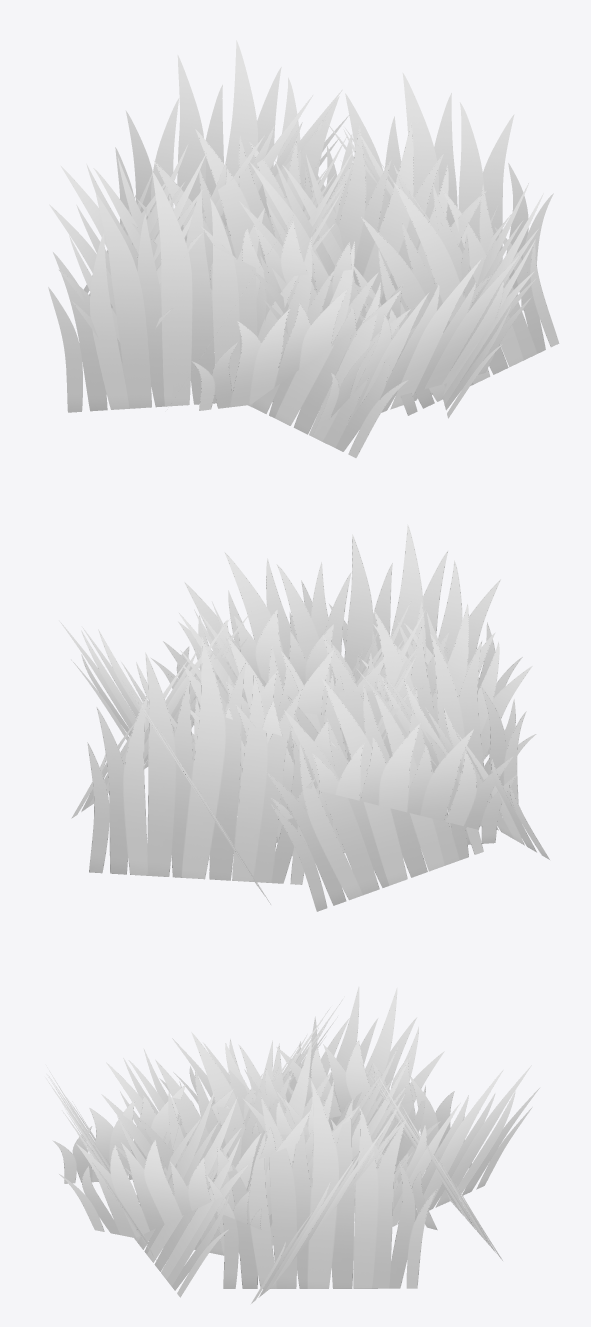
File: Grass01.fbx
3 renders of one model, top to bottom at view 1: azimuth 30°, elevation 25°; view 2: azimuth 150°, elevation 25°; view 3: azimuth 270°, elevation 25°, orthographic. The views are drawn at different scales.
Parts seen in each view (by area): view 1: Grass01_LOD0; view 2: Grass01_LOD0; view 3: Grass01_LOD0.
Boxes of the visible parts, x1=… form: Grass01_LOD0: x1=48, y1=40, x2=559, y2=457; Grass01_LOD0: x1=59, y1=524, x2=549, y2=911; Grass01_LOD0: x1=45, y1=986, x2=540, y2=1303.
Size of what is drawn, in the model's own units: 115 by 44.01 by 120.
